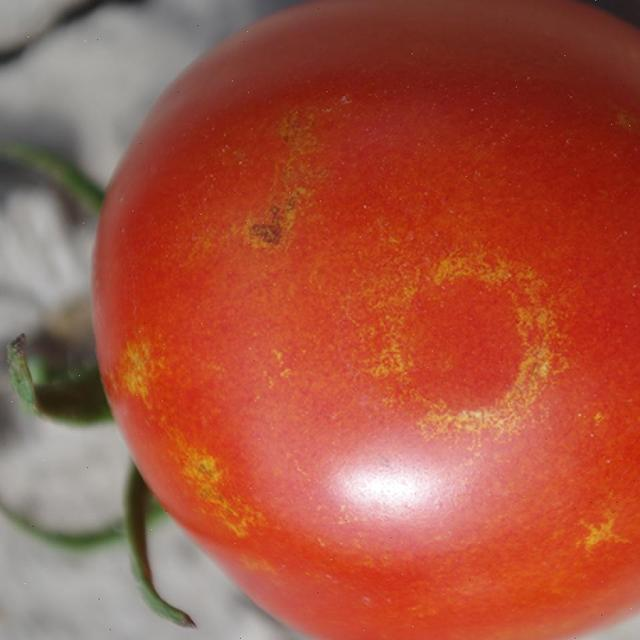Spotted wilt Virus Fruit: (166, 0, 430, 2)
